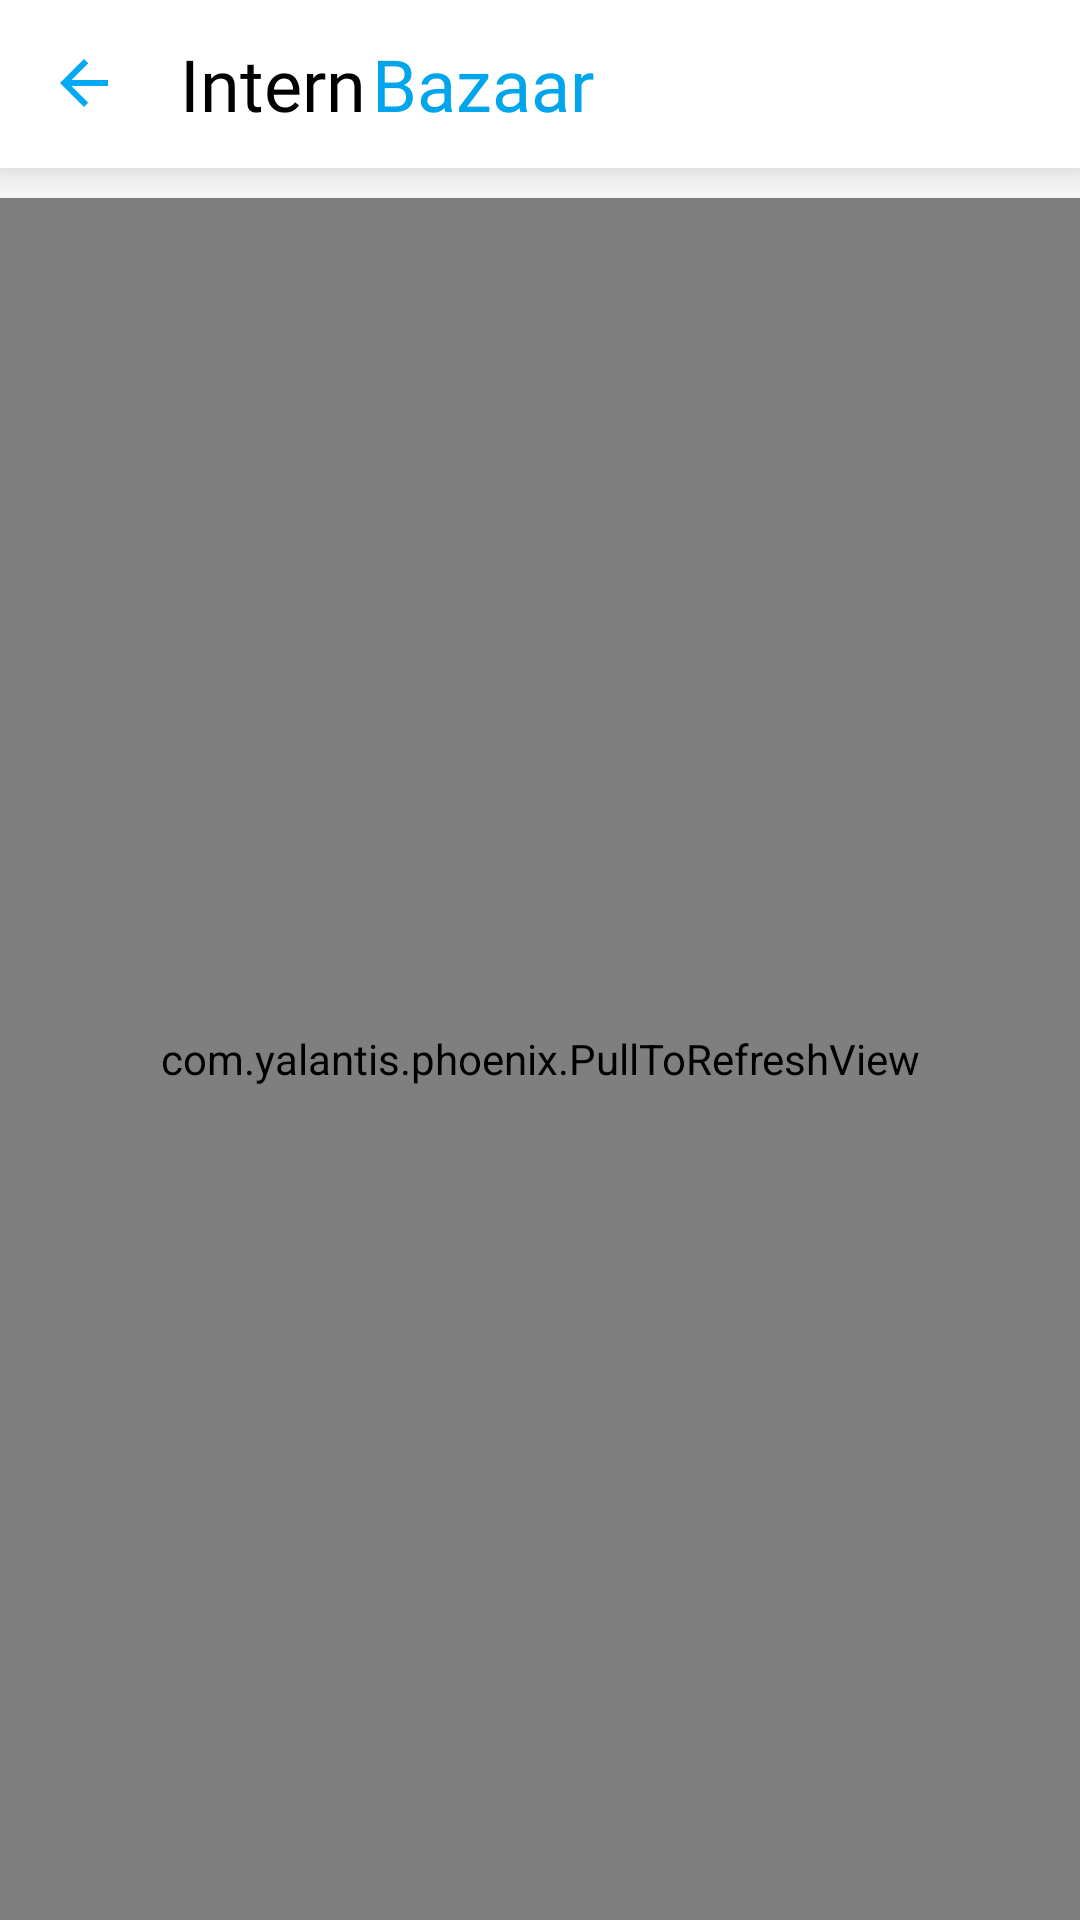

Icons on this 1080×1920 Android screen, each with its box as (x1, y1, x2, y2):
back: (60, 59, 108, 107)
